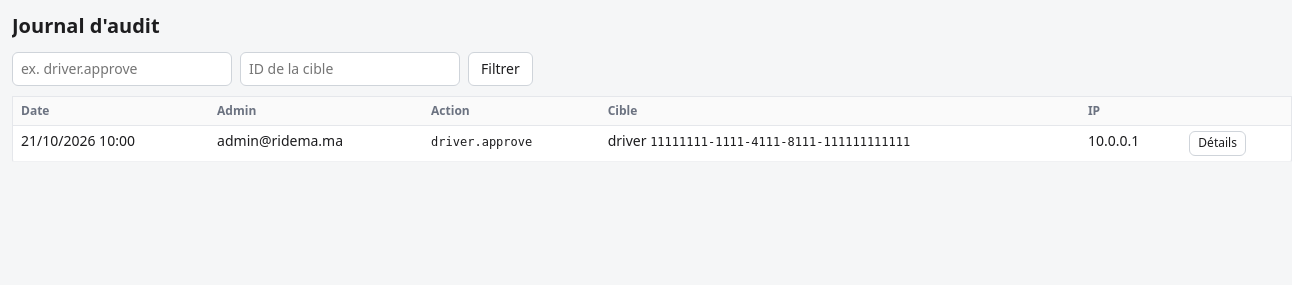
Test case: Audit log › filters by action and target
This screenshot has width=1292, height=285.
Expected: the text "admin@ridema.ma" is shown, [209,126,423,162]
Click the button "Détails" at (1218, 144), box [1189,131,1246,156]
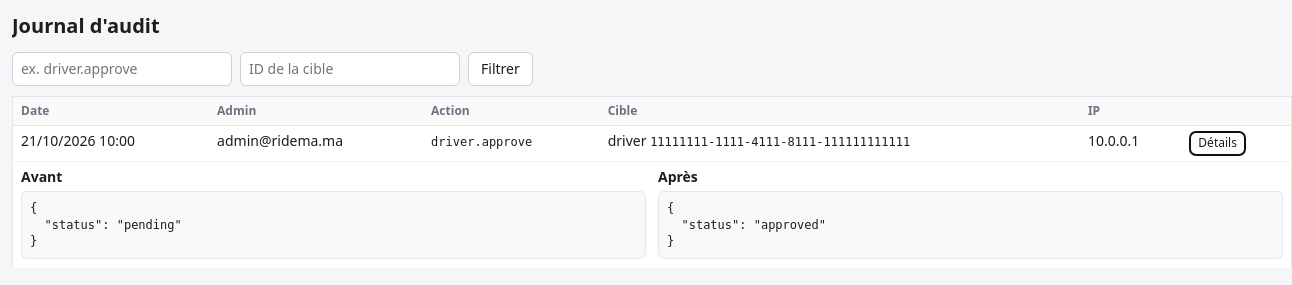
Result: the text "{ \"status\": \"approved\" }" is shown at [658,191,1283,259]
Type "driver.approve" into the field named "Action" at (122, 69), box [12,52,232,86]
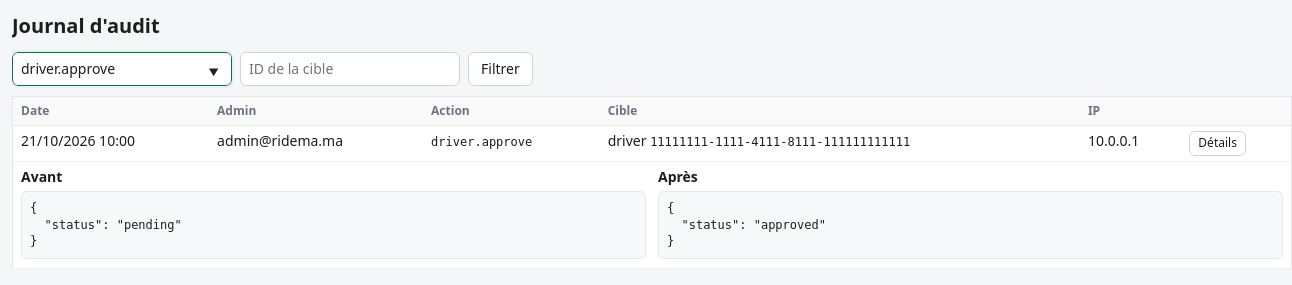
Type "11111111-1111-4111-8111-111111111111" into the field labelled "cible" at (350, 69), box [240,52,460,86]
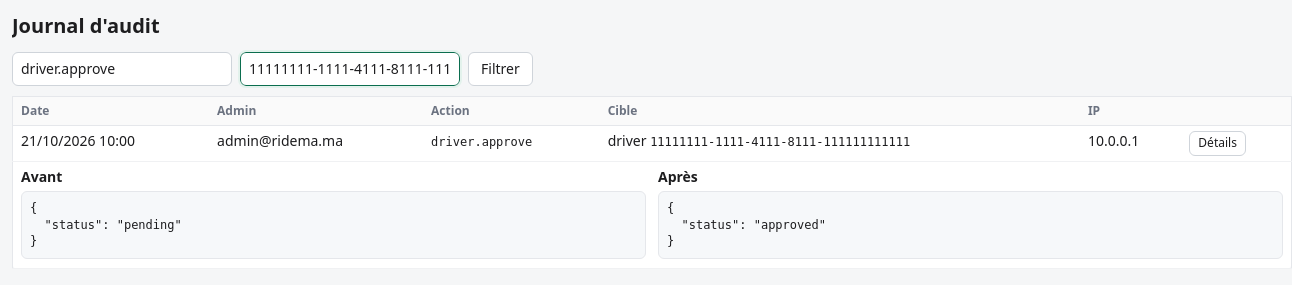
Click the button "Filtrer" at (500, 69), box [468,52,533,86]
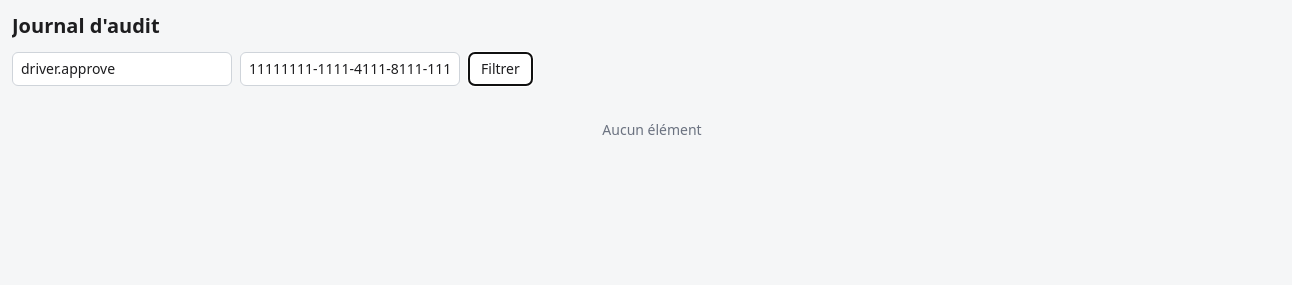
Result: the text "Aucun élément" is shown at [602,120,702,139]
